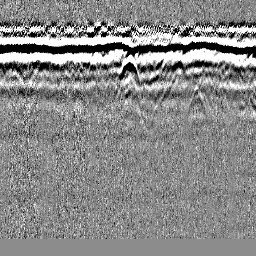cavity: (114, 53, 143, 99)
